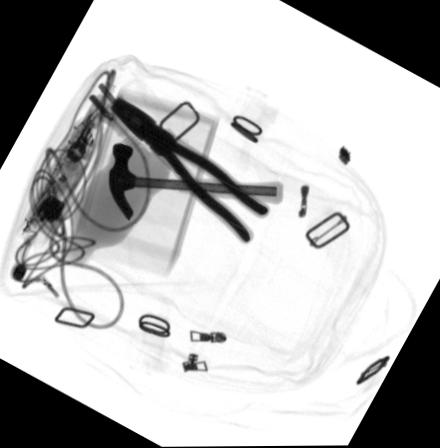Hammer: (108, 142, 283, 220)
Pliers: (109, 94, 270, 244)
